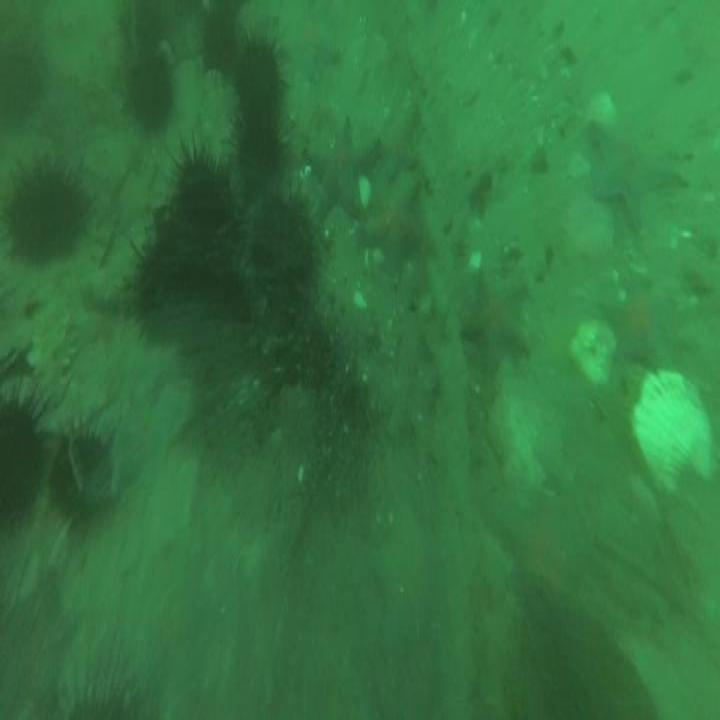echinus: (127, 234, 203, 348), (9, 165, 86, 265), (248, 194, 314, 290), (1, 404, 40, 530), (51, 436, 92, 516), (177, 155, 220, 231), (127, 59, 173, 130), (235, 115, 282, 180), (238, 36, 278, 112), (199, 7, 238, 71), (125, 0, 162, 64)
holothurian: (29, 313, 77, 402)
scallop: (634, 368, 719, 498), (351, 290, 368, 311), (468, 249, 483, 268)
starfish: (588, 119, 685, 224), (500, 496, 588, 601), (597, 279, 684, 370), (305, 115, 377, 221), (457, 274, 532, 373), (361, 180, 425, 272), (285, 22, 340, 86), (377, 100, 420, 178), (149, 377, 192, 455), (116, 167, 155, 229)
